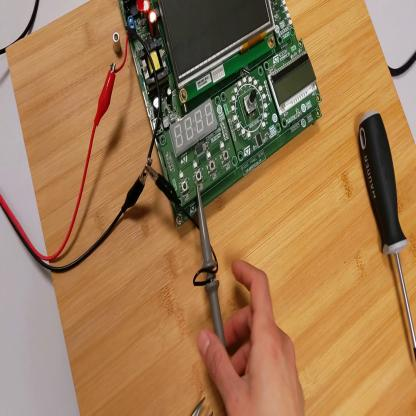hand: (203, 256, 309, 414)
low voltage board: (120, 2, 324, 225)
oscilloscope probe tip: (195, 182, 227, 351)
screwdriver-: (359, 108, 416, 362)
working area: (8, 1, 416, 415)
